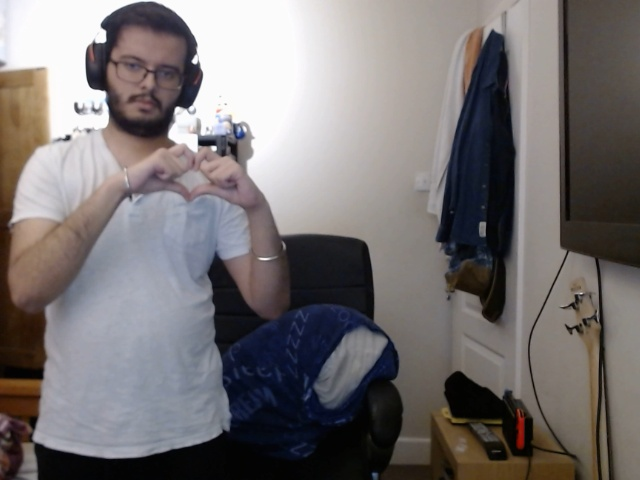Heart: (119, 144, 265, 220)
